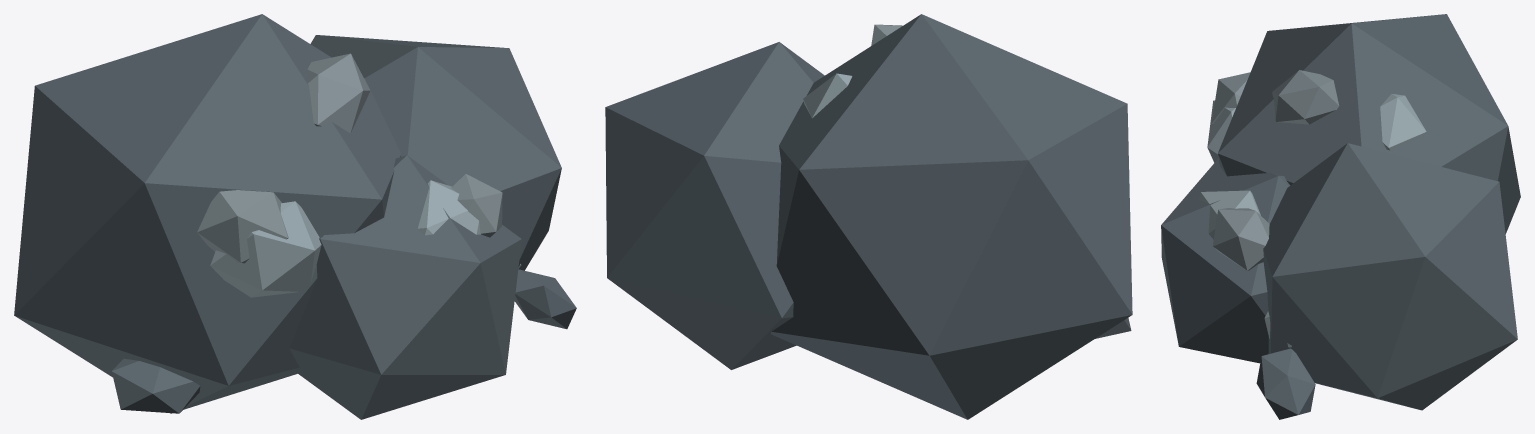
The model's file is iron_node_chipped.glb.
The picture shows the model from 3 angles, left to right: view 1: azimuth 30°, elevation 25°; view 2: azimuth 150°, elevation 25°; view 3: azimuth 270°, elevation 25°; orthographic projection. The views are drawn at different scales.
Parts seen in each view (by area): view 1: Rock_1.005, Rock_3.005, Rock_2.005, Iron_Seam_1.001, Chip_Scar_1.003, Chip_Scar_3.003, Loose_Fragment_1.003, Loose_Fragment_2.003, Iron_Seam_2.001, Chip_Scar_2.003; view 2: Rock_1.005, Rock_2.005, Iron_Seam_4.001; view 3: Rock_2.005, Rock_1.005, Rock_3.005, Loose_Fragment_2.003, Chip_Scar_3.003, Chip_Scar_2.003, Iron_Seam_4.001, Iron_Seam_2.001, Chip_Scar_1.003, Iron_Seam_1.001.
Part boxes in pixels (x1,y1,x2,y2): Rock_1.005: (14,14,401,413); Rock_3.005: (289,155,521,419); Rock_2.005: (310,35,561,270); Iron_Seam_1.001: (210,201,321,297); Chip_Scar_1.003: (197,190,288,263); Chip_Scar_3.003: (307,53,370,133); Loose_Fragment_1.003: (111,358,200,413); Loose_Fragment_2.003: (514,269,576,329); Iron_Seam_2.001: (417,180,480,235); Chip_Scar_2.003: (451,174,502,237); Rock_1.005: (771,14,1132,419); Rock_2.005: (605,42,824,369); Iron_Seam_4.001: (803,73,852,118); Rock_2.005: (1263,143,1517,410); Rock_1.005: (1218,14,1520,233); Rock_3.005: (1161,158,1290,363); Loose_Fragment_2.003: (1256,348,1315,419); Chip_Scar_3.003: (1272,70,1339,124); Chip_Scar_2.003: (1213,208,1269,270); Iron_Seam_4.001: (1380,94,1426,150); Iron_Seam_2.001: (1199,190,1260,239); Chip_Scar_1.003: (1211,72,1250,124); Iron_Seam_1.001: (1207,100,1235,162).
Bounding box in the file's own units: 1.99 × 1.41 × 1.38.
